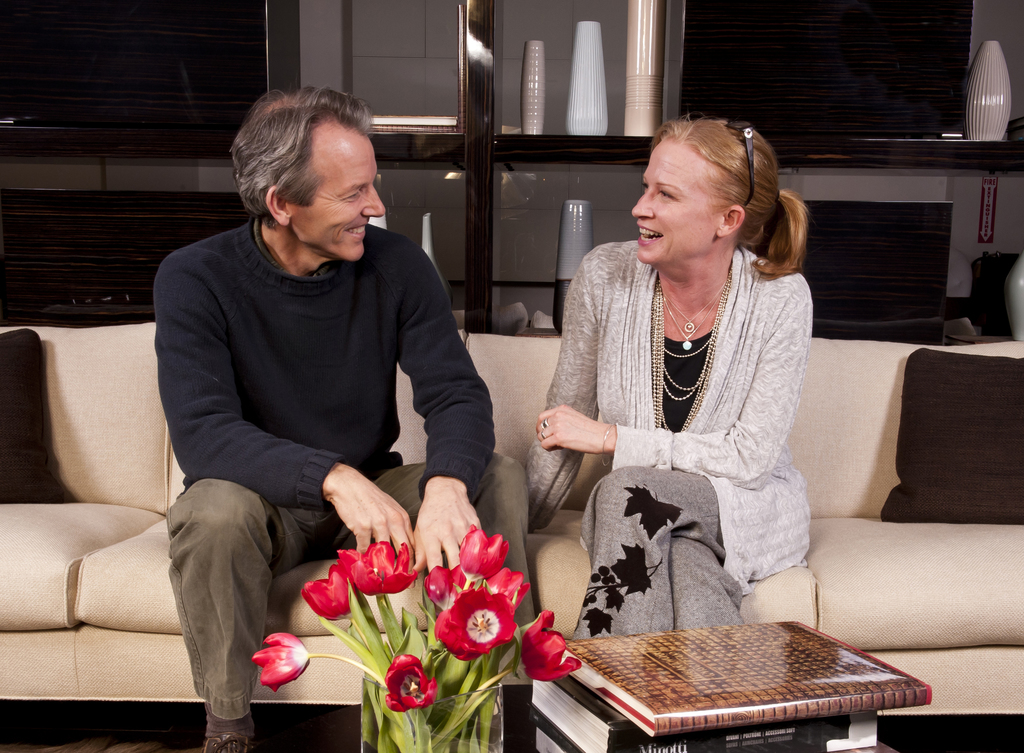Couch: (0, 333, 1023, 721)
